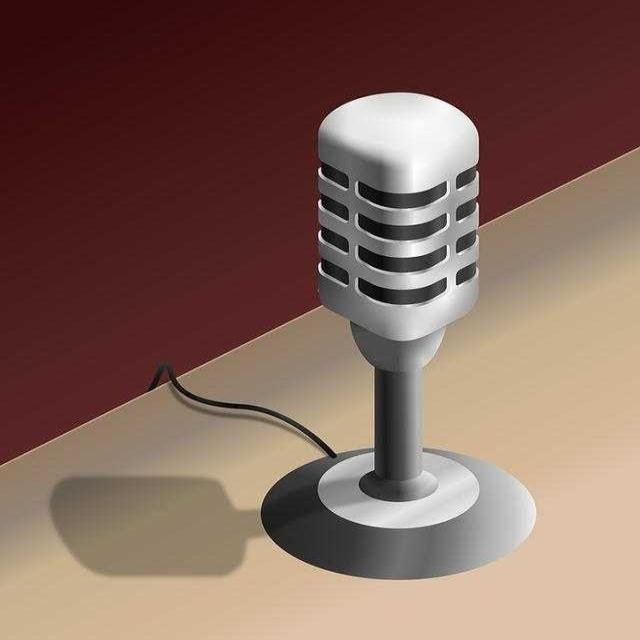microphone: (306, 81, 495, 379)
